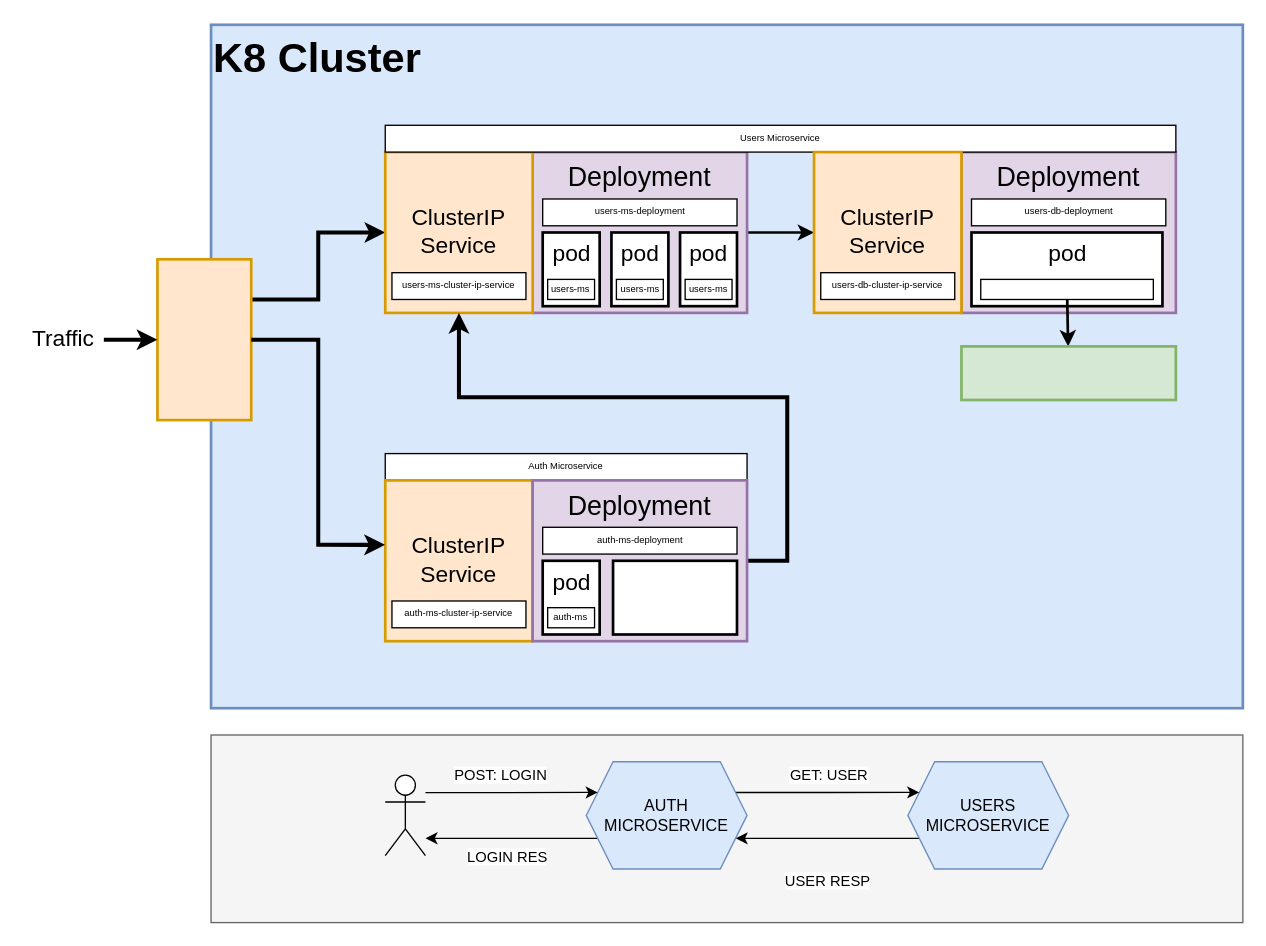
This 1266x946 diagram has some shape labels left out. The shapes that lost their labels are listed below. From the top down, each one's box as (x1, y1, x2, y2) in pixels, then its label:
(979, 278, 1153, 299): postgres
(155, 257, 252, 421): Ingress Service
(959, 344, 1177, 401): DB PVC
(611, 559, 738, 635): pod ...
(384, 774, 425, 856): Actor
(210, 734, 1243, 923): Login
